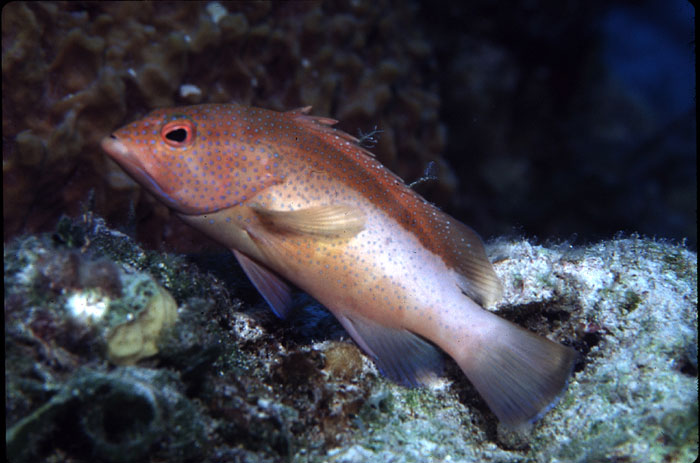Cephalopholis_fulvaw: (98, 85, 601, 436)
